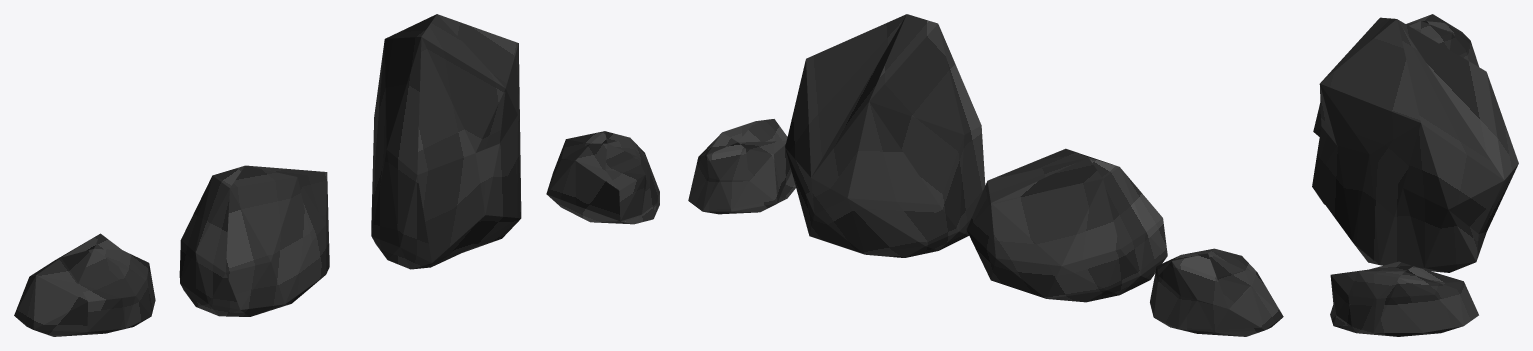
Rendered from rocks.glb.
3 views of the same model, side by side, from view 1: azimuth 30°, elevation 25°; view 2: azimuth 150°, elevation 25°; view 3: azimuth 270°, elevation 25° (orthographic). The views are drawn at different scales.
Visible parts, largest first — view 1: rock.001, rock, rock.002, rock.003; view 2: rock.001, rock, rock.002, rock.003; view 3: rock.001, rock.003, rock.002, rock.
Part boxes in pixels (x1,y1,x2,y2): rock.001: [371, 14, 521, 269]; rock: [179, 165, 329, 316]; rock.002: [14, 233, 155, 336]; rock.003: [546, 131, 659, 224]; rock.001: [785, 14, 985, 257]; rock: [966, 148, 1167, 302]; rock.002: [1150, 248, 1283, 336]; rock.003: [688, 119, 795, 214]; rock.001: [1312, 17, 1518, 272]; rock.003: [1330, 261, 1478, 336]; rock.002: [1406, 14, 1478, 66]; rock: [1313, 28, 1413, 136].
Bounding box in the file's own units: 22.41 × 8.46 × 6.75.
1 material, 1 textured.
